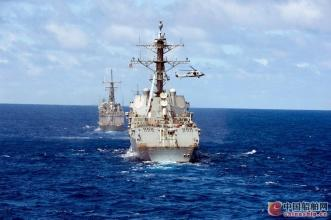warship: (126, 19, 211, 163), (92, 67, 129, 133)
